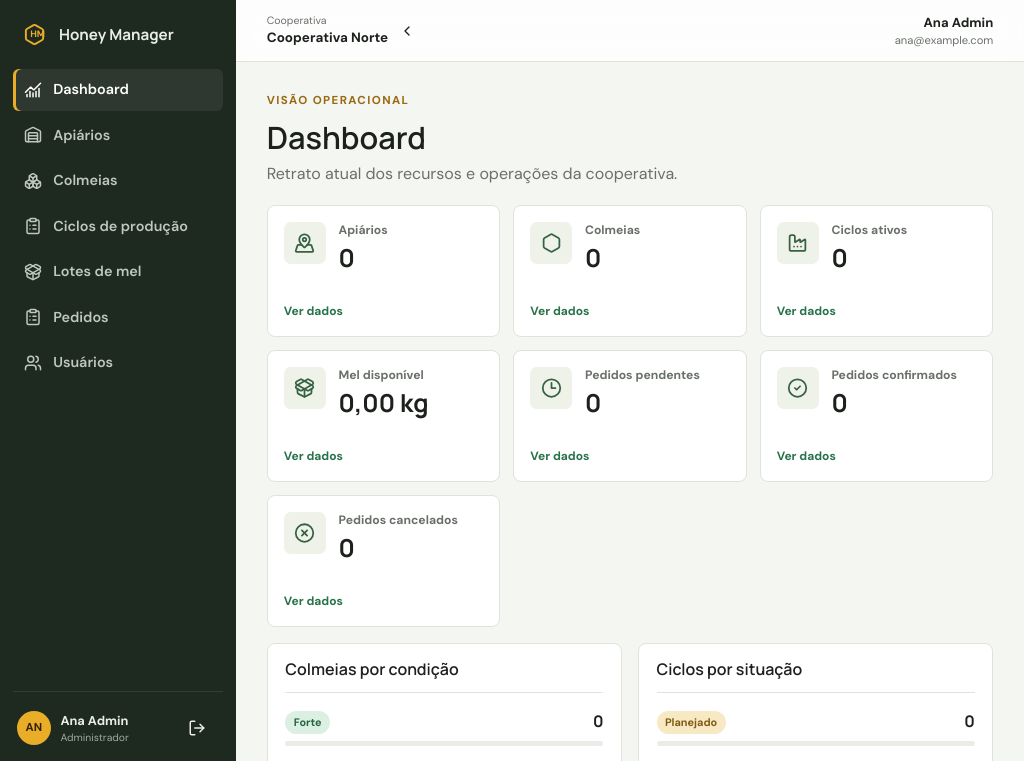
Test case: authentication flow › logs out and clears the persisted session
expect the heading "Dashboard" is shown: met, box 267,116 -> 426,158
What coordinates should you click on to do the following:
click the button named "Sair"
I would click on:
 (197, 728)
Its box is 175,706 -> 219,750.
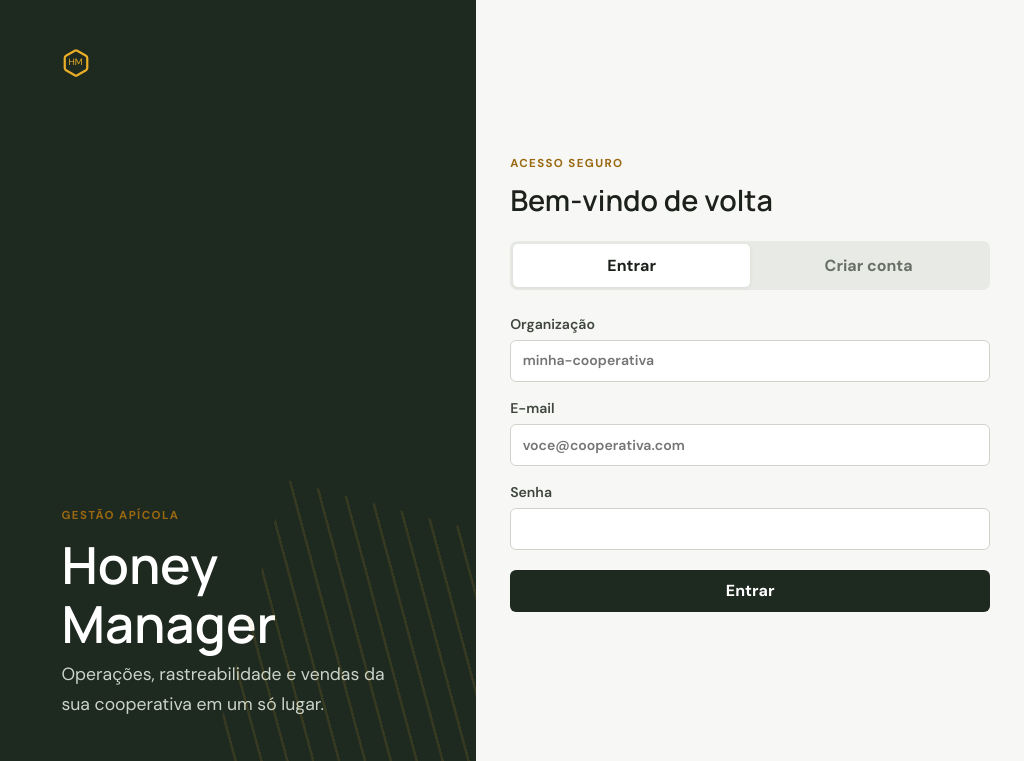
expect the heading "Bem-vindo de volta" is shown: met, box 510,180 -> 773,220
